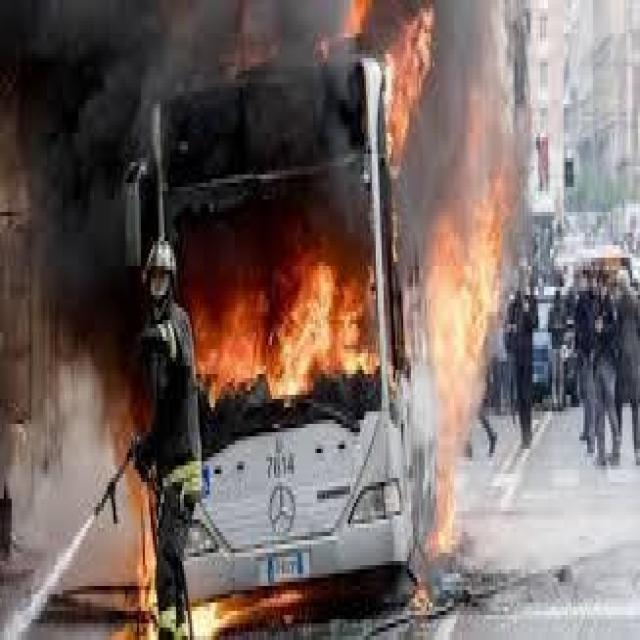Fire: (424, 182, 502, 561), (195, 253, 378, 401)
Smoke: (0, 0, 157, 416), (393, 1, 512, 274), (0, 374, 142, 572), (248, 0, 368, 223)
